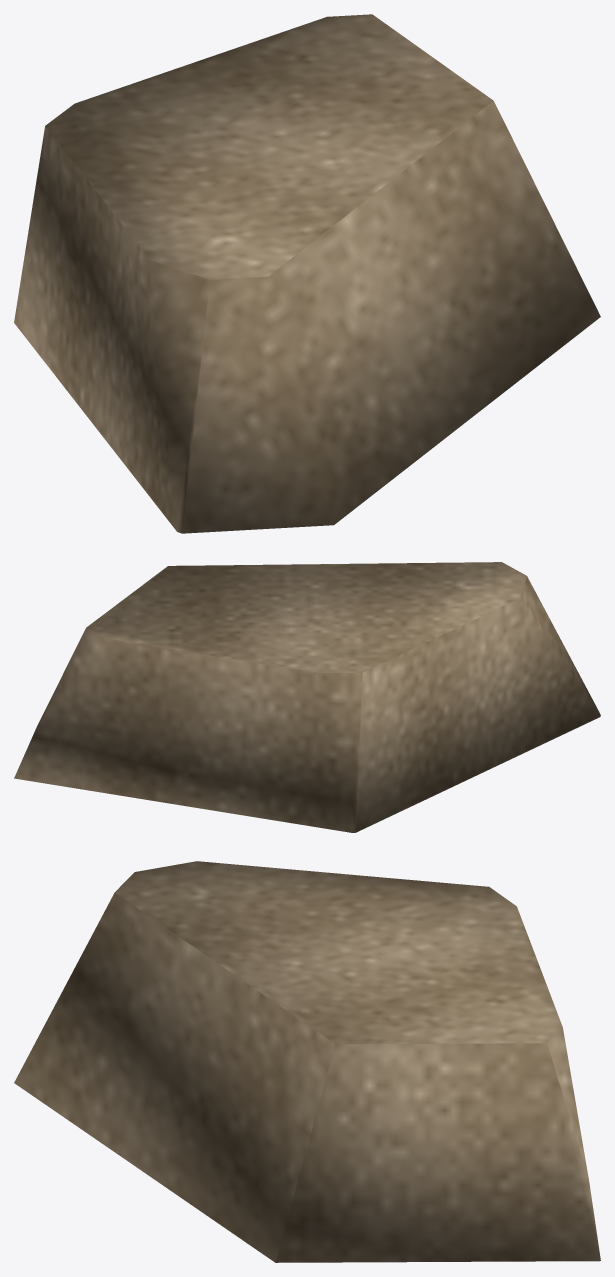
The model's file is boulder_7.glb.
3 views of the same model, one above another, from view 1: azimuth 30°, elevation 25°; view 2: azimuth 150°, elevation 25°; view 3: azimuth 270°, elevation 25° (orthographic). The views are drawn at different scales.
Parts seen in each view (by area): view 1: boulder_7; view 2: boulder_7; view 3: boulder_7.
Boxes of the visible parts, x1,y1,x2,y2 form: boulder_7: [14, 14, 600, 533]; boulder_7: [14, 562, 600, 832]; boulder_7: [14, 861, 600, 1262].
Bounding box in the file's own units: 2.73 × 1.01 × 2.89.
Materials: 1 (1 with a texture image).
